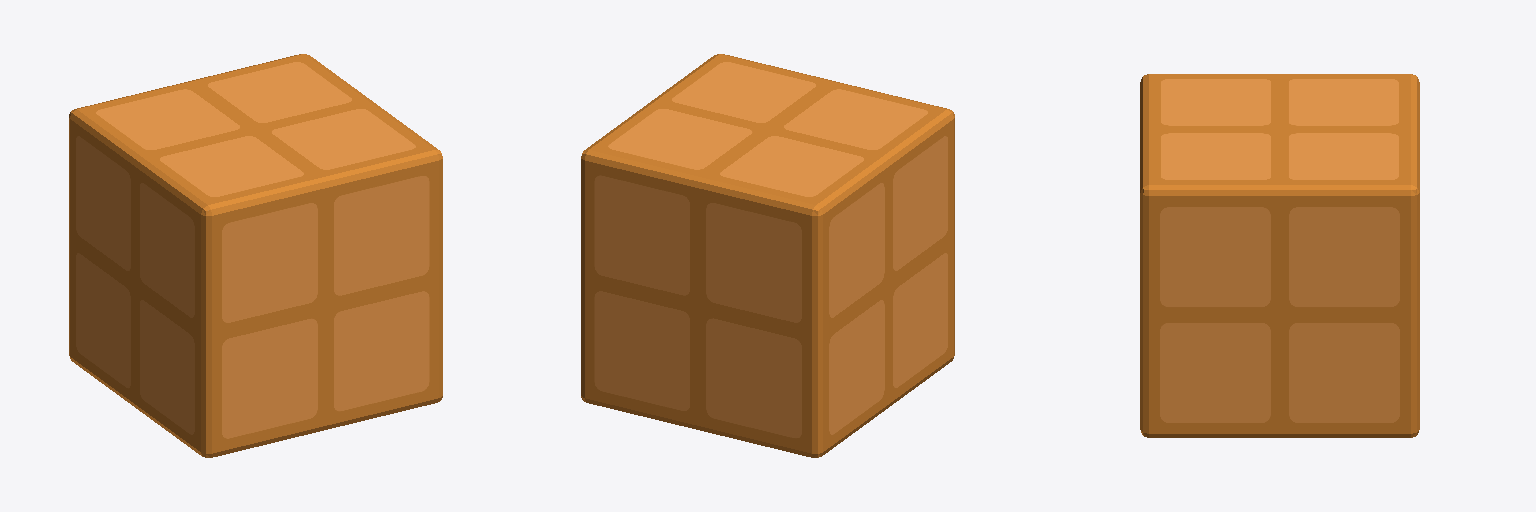
3 renders of one model, left to right at view 1: azimuth 30°, elevation 25°; view 2: azimuth 150°, elevation 25°; view 3: azimuth 270°, elevation 25°, orthographic.
Visible parts, largest first — view 1: pCube1_Mesh; view 2: pCube1_Mesh; view 3: pCube1_Mesh.
Part boxes in pixels (left/top/right/bottom): pCube1_Mesh: left=69, top=54, right=442, bottom=457; pCube1_Mesh: left=581, top=54, right=954, bottom=457; pCube1_Mesh: left=1140, top=74, right=1419, bottom=437.
Bounding box in the file's own units: 2 × 2 × 2.
1 materials, 1 textured.